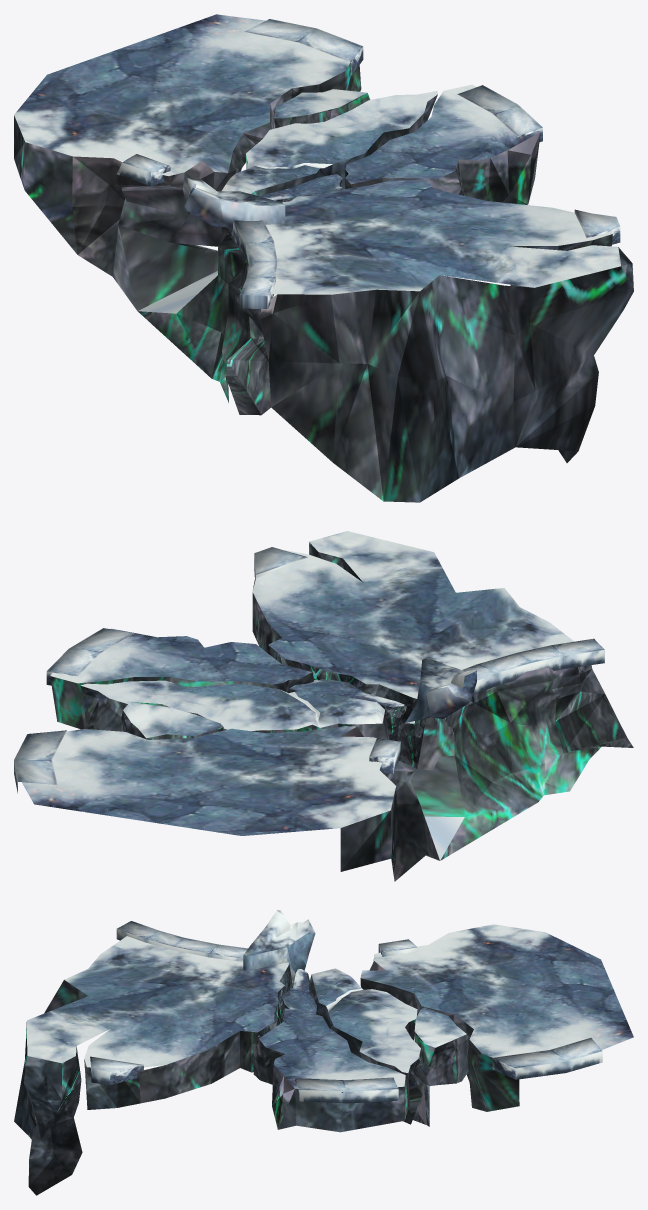
Rendered from S_Build_Snowland206_7.FBX.
The picture shows the model from 3 angles, top to bottom: view 1: azimuth 30°, elevation 25°; view 2: azimuth 150°, elevation 25°; view 3: azimuth 270°, elevation 25°; orthographic projection. The views are drawn at different scales.
Visible parts, largest first — view 1: S_Build_Snowland206_7; view 2: S_Build_Snowland206_7; view 3: S_Build_Snowland206_7.
Boxes of the visible parts, <box> form: S_Build_Snowland206_7: <box>14,14,633,502</box>; S_Build_Snowland206_7: <box>14,531,633,881</box>; S_Build_Snowland206_7: <box>14,910,633,1195</box>.
Bounding box in the file's own units: 739 × 1112 × 378.
